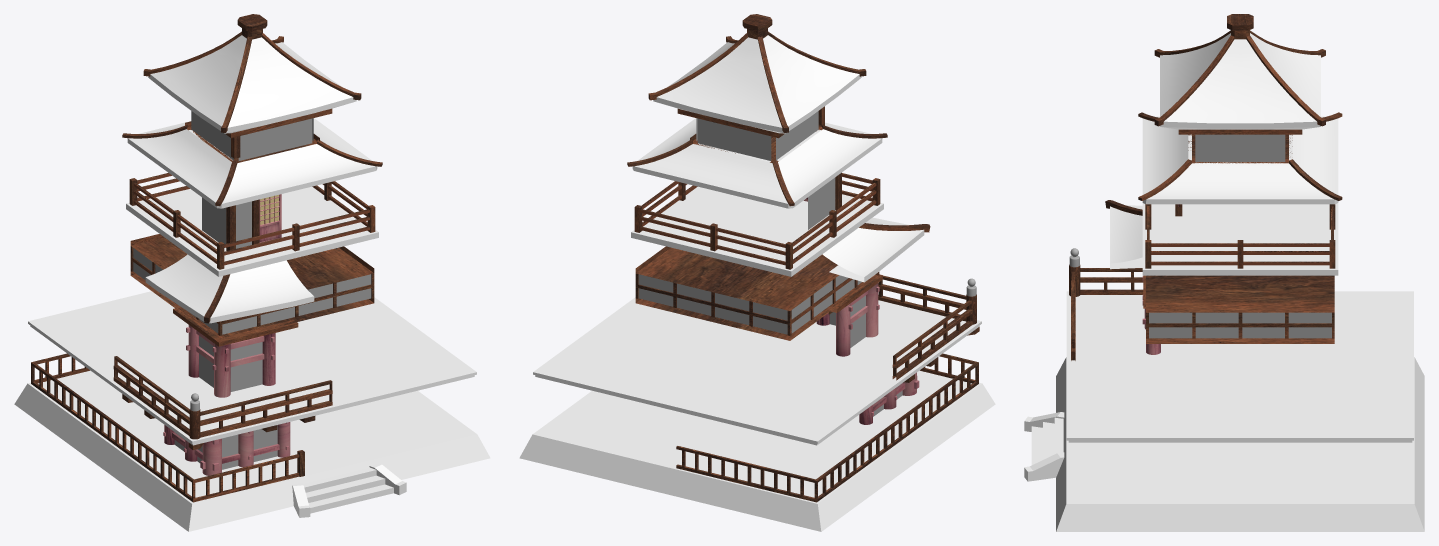
File: Pagoda.gltf
3 renders of one model, left to right at view 1: azimuth 30°, elevation 25°; view 2: azimuth 150°, elevation 25°; view 3: azimuth 270°, elevation 25°, orthographic. The views are drawn at different scales.
Parts seen in each view (by area): view 1: Plane.005, Plane.000, Plane.022, Plane.024, Plane.007, Plane.009, Plane.015, Plane.002, Plane.019, Plane.016, Plane.035, Plane.014 (+18 smaller); view 2: Plane.005, Plane.000, Plane.022, Plane.024, Plane.007, Plane.019, Plane.015, Plane.014, Plane.002, Plane.009, Plane.035, Plane.023 (+12 smaller); view 3: Plane.005, Plane.000, Plane.022, Plane.007, Plane.024, Plane.019, Plane.014, Plane.023, Plane.035, Plane.016, Plane.009, Plane.002 (+8 smaller).
Boxes of the visible parts, left/top/right/bottom form: Plane.005: left=28, top=291, right=476, bottom=445; Plane.000: left=14, top=370, right=490, bottom=531; Plane.022: left=148, top=35, right=356, bottom=133; Plane.024: left=127, top=118, right=377, bottom=208; Plane.007: left=126, top=186, right=378, bottom=276; Plane.009: left=145, top=254, right=314, bottom=323; Plane.015: left=31, top=353, right=304, bottom=502; Plane.002: left=113, top=356, right=332, bottom=439; Plane.019: left=130, top=234, right=374, bottom=289; Plane.016: left=292, top=463, right=406, bottom=517; Plane.035: left=191, top=111, right=313, bottom=160; Plane.014: left=133, top=248, right=371, bottom=334; Plane.005: left=533, top=297, right=981, bottom=445; Plane.000: left=519, top=370, right=995, bottom=531; Plane.022: left=653, top=35, right=861, bottom=133; Plane.024: left=632, top=118, right=882, bottom=208; Plane.007: left=631, top=186, right=883, bottom=276; Plane.019: left=635, top=246, right=838, bottom=310; Plane.015: left=676, top=353, right=978, bottom=502; Plane.014: left=638, top=274, right=861, bottom=334; Plane.002: left=878, top=275, right=976, bottom=380; Plane.009: left=822, top=217, right=924, bottom=282; Plane.035: left=696, top=111, right=818, bottom=160; Plane.023: left=648, top=14, right=866, bottom=132; Plane.005: left=1066, top=291, right=1413, bottom=442; Plane.000: left=1056, top=357, right=1424, bottom=531; Plane.022: left=1160, top=33, right=1320, bottom=129; Plane.007: left=1142, top=203, right=1338, bottom=275; Plane.024: left=1142, top=116, right=1338, bottom=204; Plane.019: left=1146, top=275, right=1334, bottom=312; Plane.014: left=1149, top=312, right=1331, bottom=338; Plane.023: left=1154, top=14, right=1325, bottom=126; Plane.035: left=1195, top=134, right=1285, bottom=161; Plane.016: left=1024, top=412, right=1064, bottom=481; Plane.009: left=1110, top=205, right=1142, bottom=269; Plane.002: left=1069, top=264, right=1143, bottom=360.
Bounding box in the file's own units: 12.71 × 16.52 × 13.81.
Materials: 7 (2 with a texture image).
